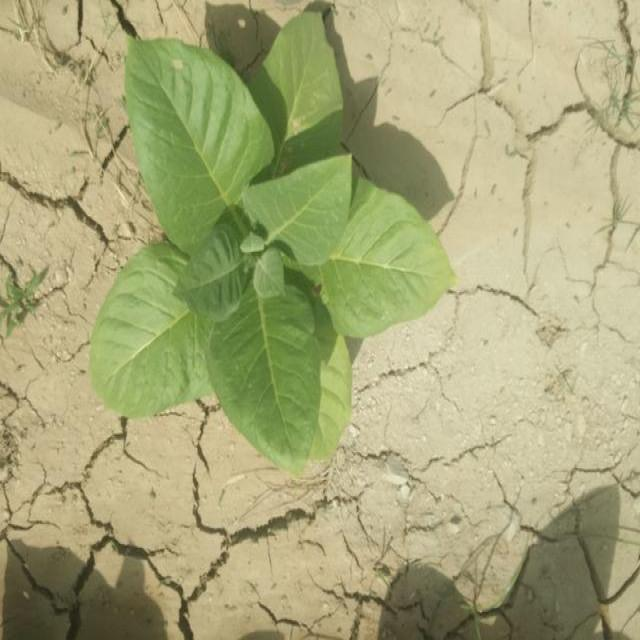crop: (76, 20, 454, 472)
